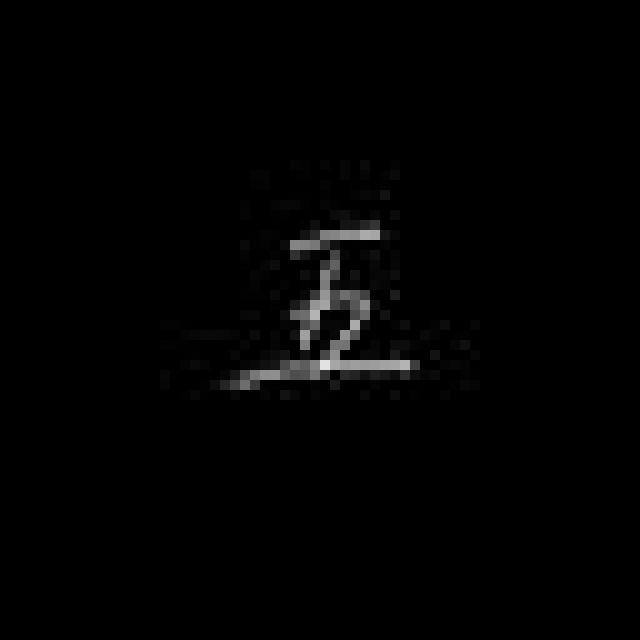5 -five-: (214, 220, 423, 396)
